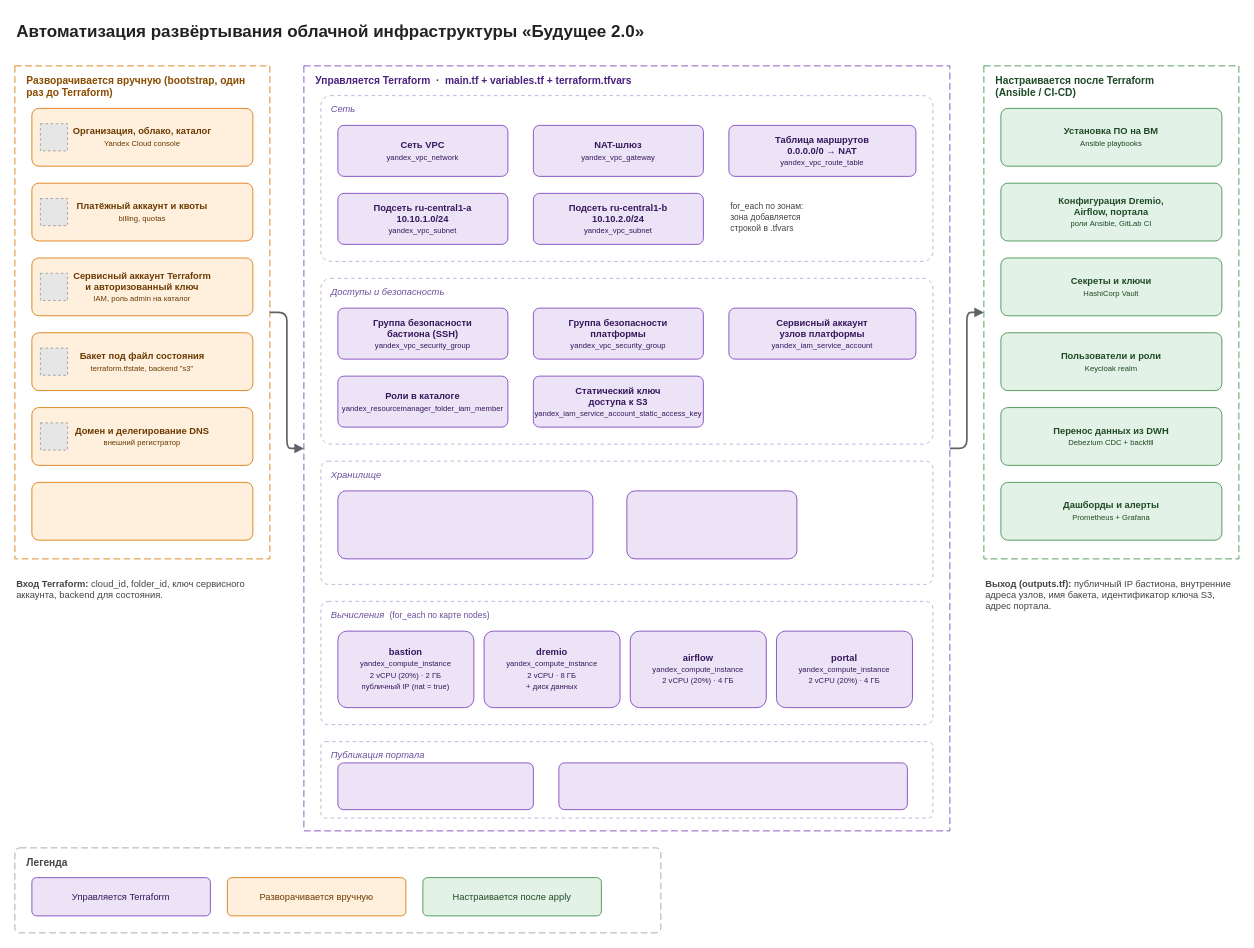
The diagram is 1254 pixels wide and 948 high, and some of its shapes have lost their labels. Grey dashed boxes stand in for pictures. Here are the shapes that lost their labels. From the top down, the centre of each, then its label:
the point at 142,511: TLS-сертификат для портала Certificate Manager
the point at 465,524: Бакет lakehouse версионирование, COLD через 90 дней yandex_storage_bucket
the point at 711,524: Диск данных dremio · 20 ГБ SSD yandex_compute_disk
the point at 435,786: Целевая группа yandex_lb_target_group
the point at 732,786: Сетевой балансировщик · TCP 443 → 8080 yandex_lb_network_load_balancer
